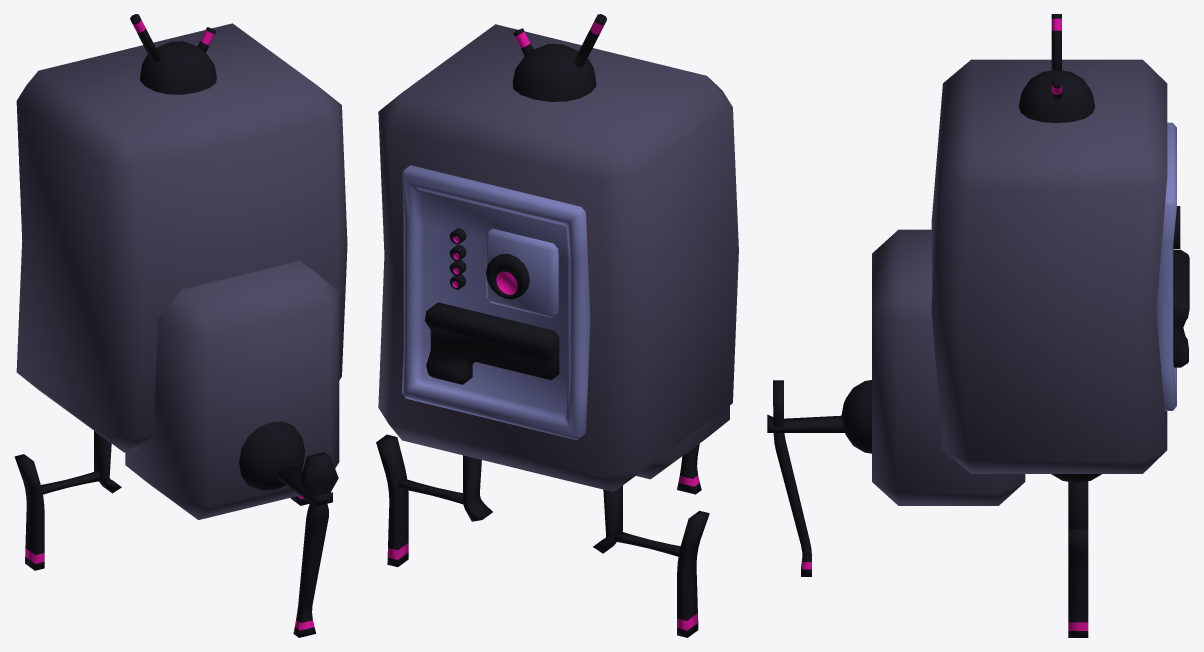
File: wall tv.fbx
The picture shows the model from 3 angles, left to right: view 1: azimuth 30°, elevation 25°; view 2: azimuth 150°, elevation 25°; view 3: azimuth 270°, elevation 25°; orthographic projection. The views are drawn at different scales.
Parts seen in each view (by area): view 1: Cube; view 2: Cube; view 3: Cube.
Part boxes in pixels (x1=…): Cube: x1=14, y1=14, x2=347, y2=637; Cube: x1=376, y1=14, x2=738, y2=637; Cube: x1=767, y1=14, x2=1189, y2=637.
Bounding box in the file's own units: 247 × 429 × 305.
